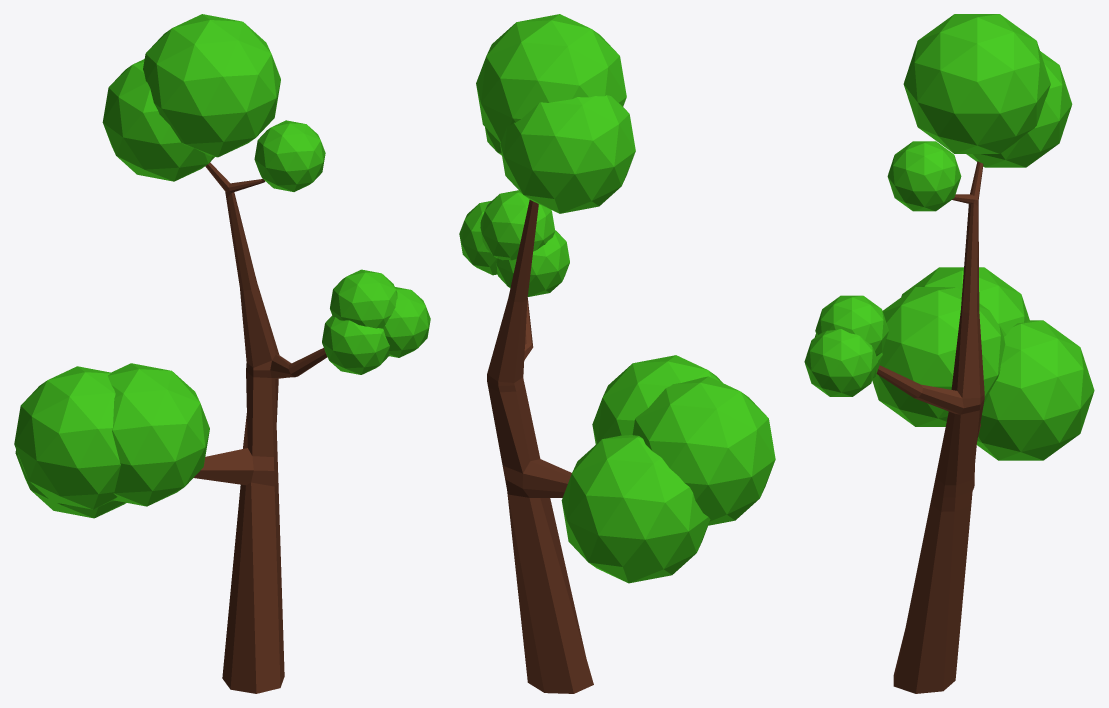
The model's file is tree3.fbx.
The picture shows the model from 3 angles, left to right: view 1: azimuth 30°, elevation 25°; view 2: azimuth 150°, elevation 25°; view 3: azimuth 270°, elevation 25°; orthographic projection. The views are drawn at different scales.
Parts seen in each view (by area): view 1: Cylinder.002; view 2: Cylinder.002; view 3: Cylinder.002.
Boxes of the visible parts, x1,y1,x2,y2 form: Cylinder.002: (14,14,430,693); Cylinder.002: (459,14,775,693); Cylinder.002: (804,14,1094,693).
Size of the model in its own units: 1227 by 2222 by 892.
